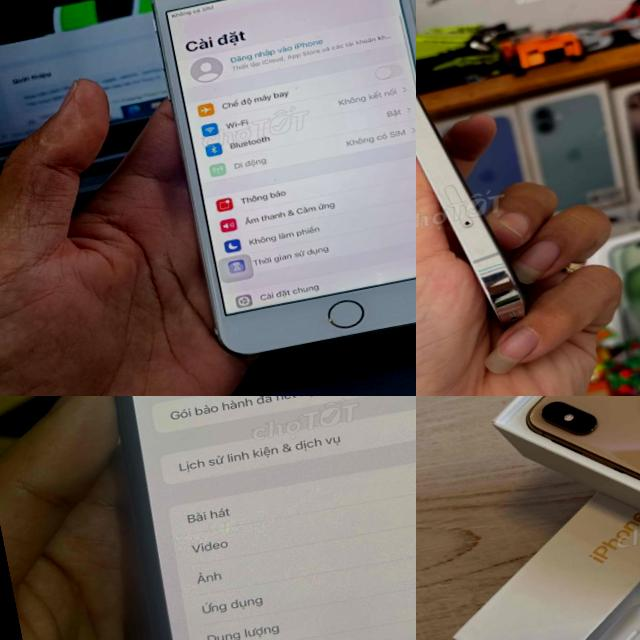gen_12_13: (416, 0, 526, 348)
gen_7_8: (142, 0, 416, 359)
gen_x_xs: (116, 396, 416, 640), (479, 396, 640, 624)
